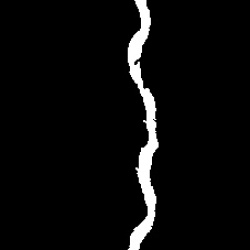crack: (125, 3, 159, 247)
